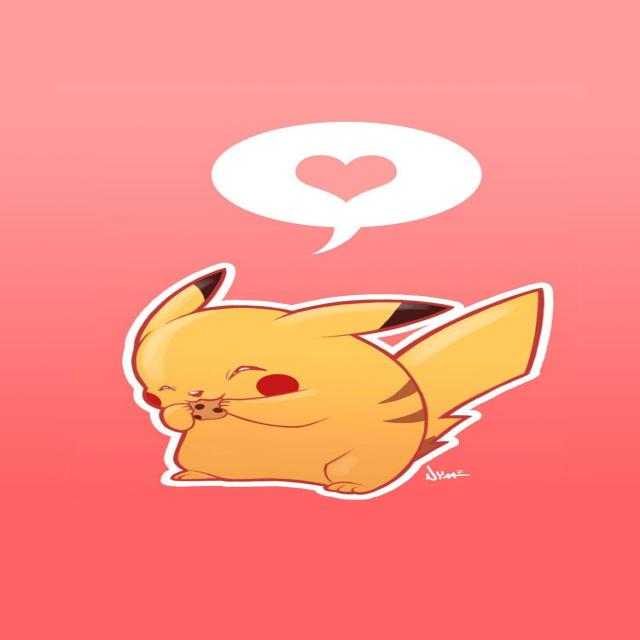pikachu: (128, 265, 548, 495)
